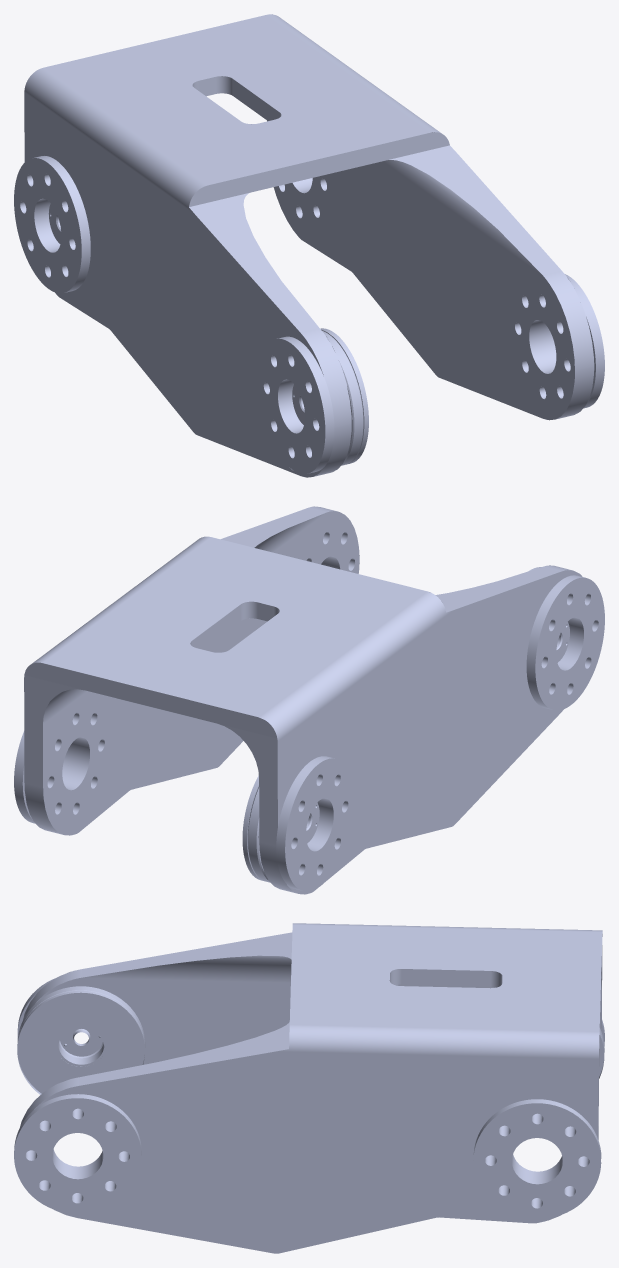
3 renders of one model, top to bottom at view 1: azimuth 30°, elevation 25°; view 2: azimuth 150°, elevation 25°; view 3: azimuth 270°, elevation 25°, orthographic. The views are drawn at different scales.
Visible parts, largest first — view 1: NONE_DC_Shell, Boss_Extrude1_DC_Shell; view 2: NONE_DC_Shell, Boss_Extrude1_DC_Shell; view 3: NONE_DC_Shell, Boss_Extrude1_DC_Shell.
Part boxes in pixels (box(x1,y1,x2,y2)): NONE_DC_Shell: box(24, 14, 594, 477); Boss_Extrude1_DC_Shell: box(14, 156, 604, 474); NONE_DC_Shell: box(24, 506, 582, 894); Boss_Extrude1_DC_Shell: box(14, 564, 604, 891); NONE_DC_Shell: box(17, 923, 604, 1253); Boss_Extrude1_DC_Shell: box(14, 978, 604, 1218).
Bounding box in the file's own units: 52.16 × 41.89 × 102.
